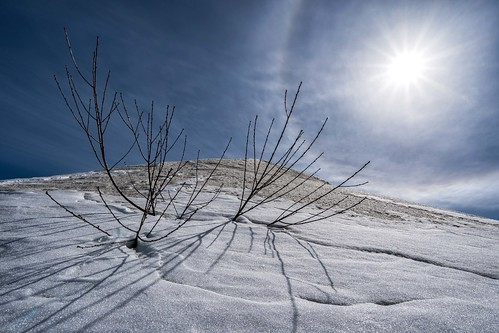sky: (1, 1, 494, 202)
sun: (375, 39, 448, 104)
tree: (66, 78, 321, 242)
